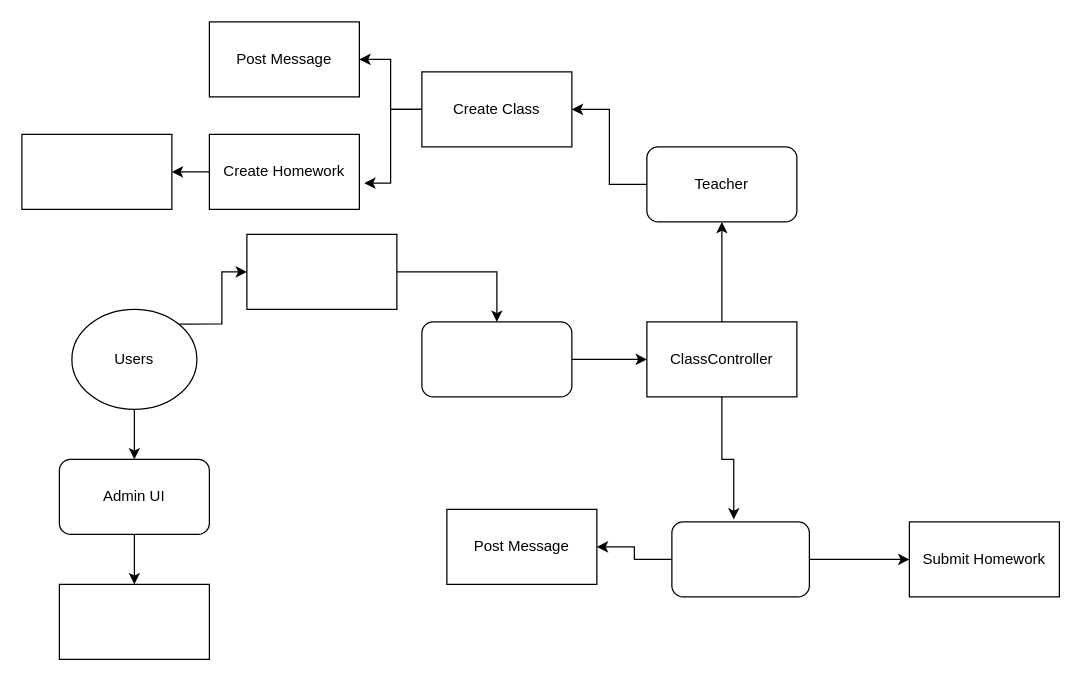
This 1081x681 diagram has some shape labels left out. Each missing label, with the box of its shape:
Class UI: (421, 321, 572, 397)
Create Account: (58, 583, 209, 659)
Login: (246, 233, 397, 309)
Student: (671, 521, 809, 597)
View Submited Homework: (21, 133, 172, 209)
